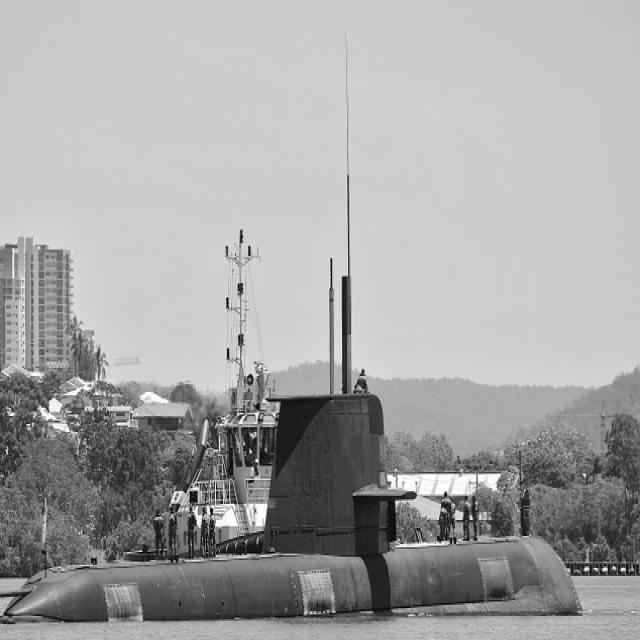submarine: (1, 388, 584, 620)
